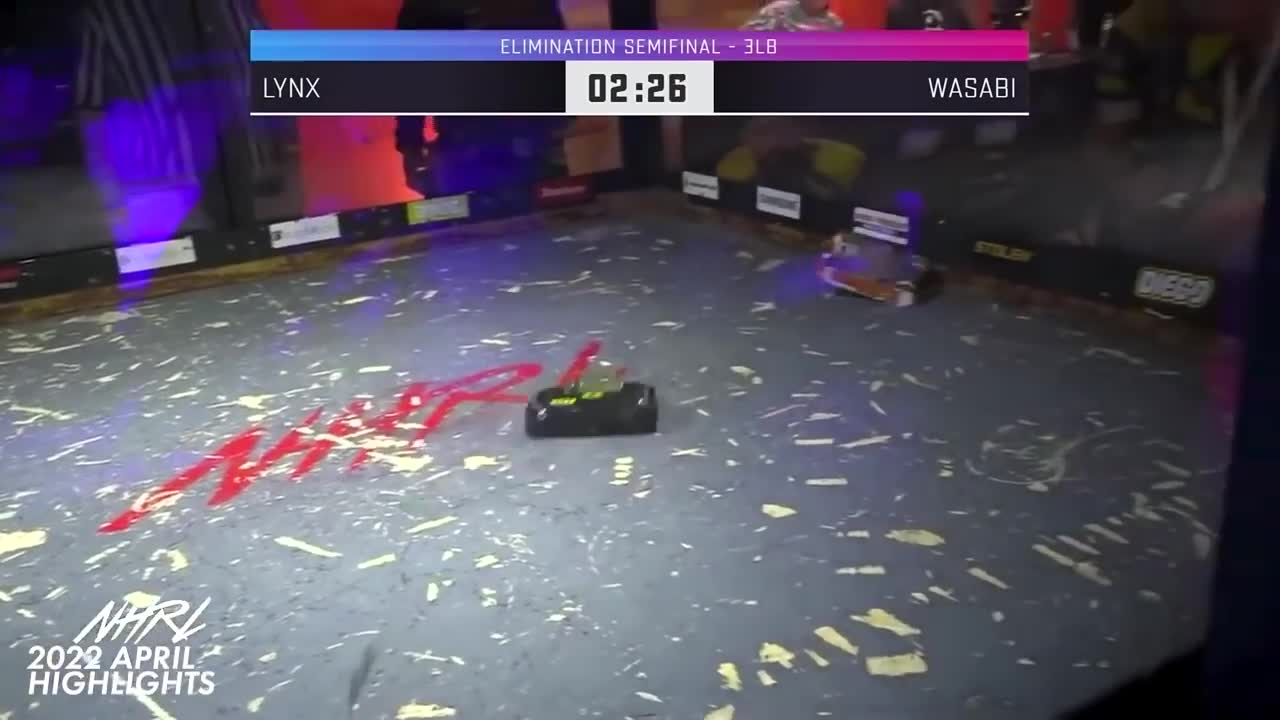combatbot: (819, 232, 945, 308), (525, 368, 659, 438)
